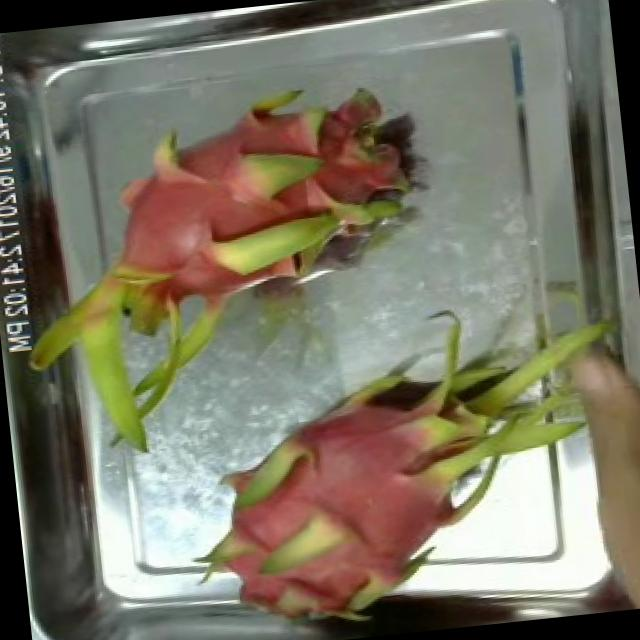Fruit: (296, 78, 426, 224)
